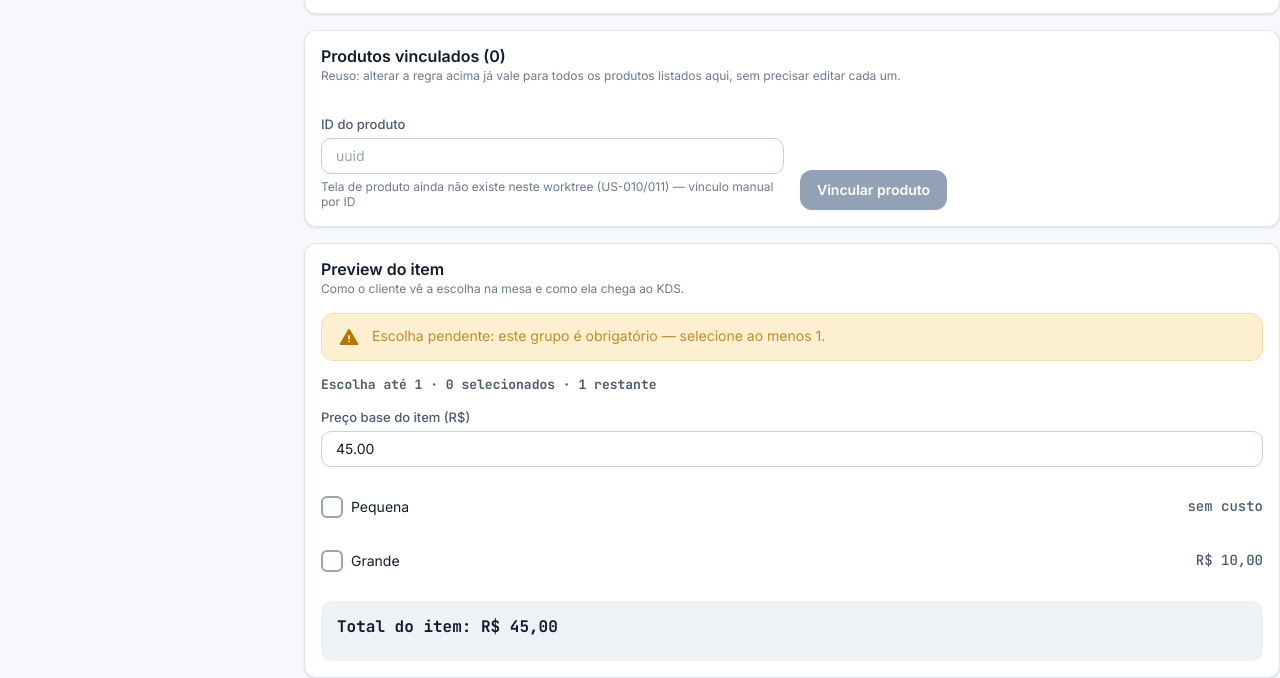
it: ModifierGroupManagementPage › some com o aviso obrigatório assim que a seleção mínima é atingida
The image size is (1280, 678).
(page scrolled)
Click the checkbox labelled "Grande R$ 10,00".
click(332, 561)  # box [321,550,343,572]
(page scrolled)
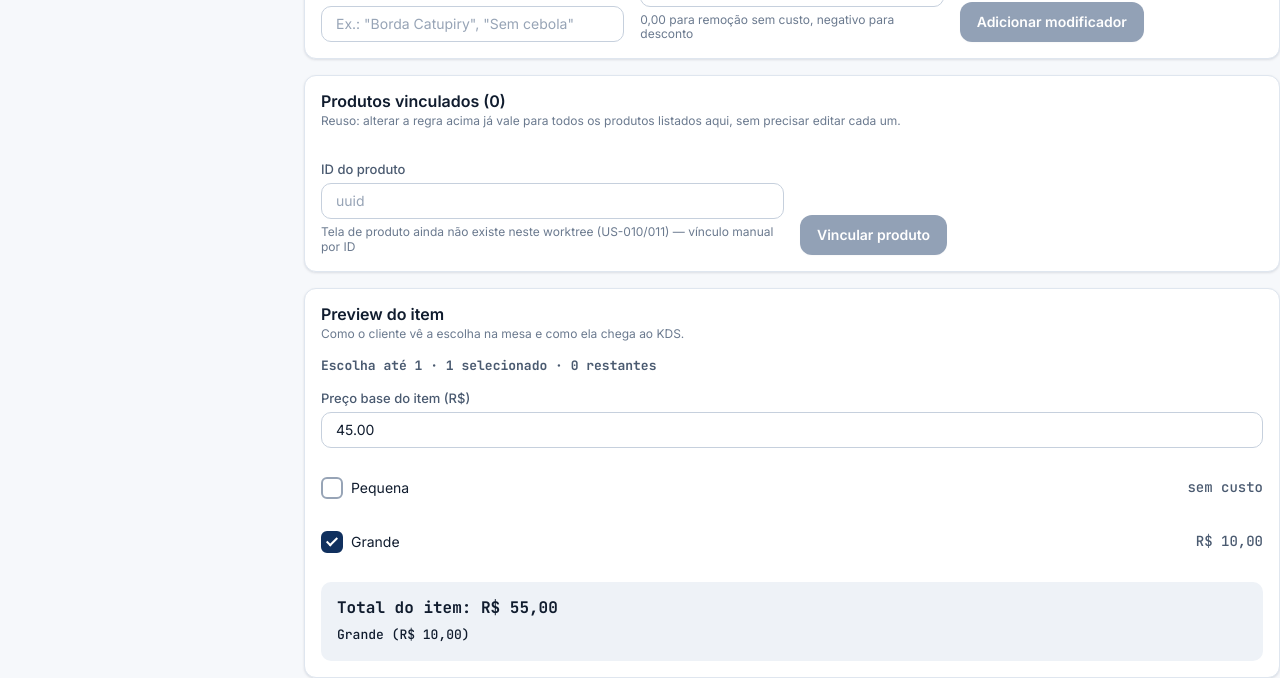
expect the text "Escolha pendente" is gone: met
expect the text "Escolha até 1 · 1 selecionado · 0 restantes" is shown: met, box [321,356,656,374]
